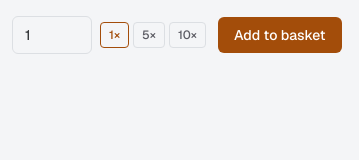
Scenario: AddToBasketButton — no variables, no gifting › shows a success message after adding
Click the button "Add to basket" at (280, 35), box [218,17,342,53]
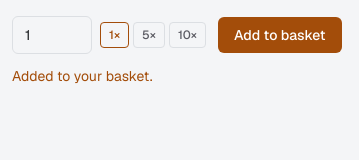
Result: the text "Added to your basket." is shown at [12,67,152,85]
